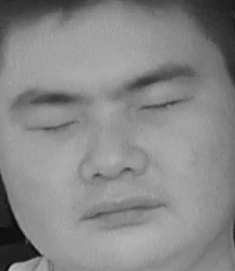blink: (23, 110, 79, 142), (139, 88, 191, 122)
mouth: (77, 183, 172, 236)
